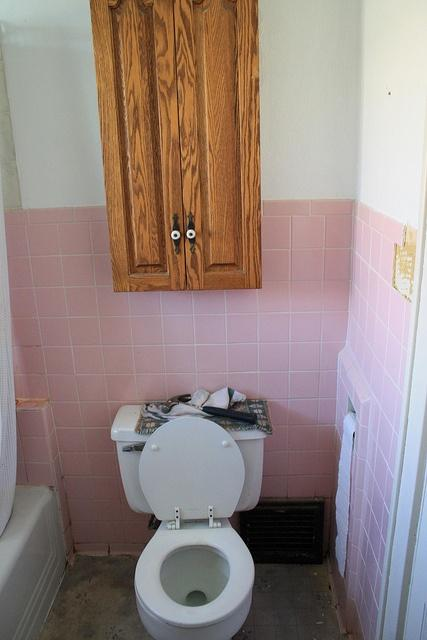Lemari: (88, 0, 262, 293)
